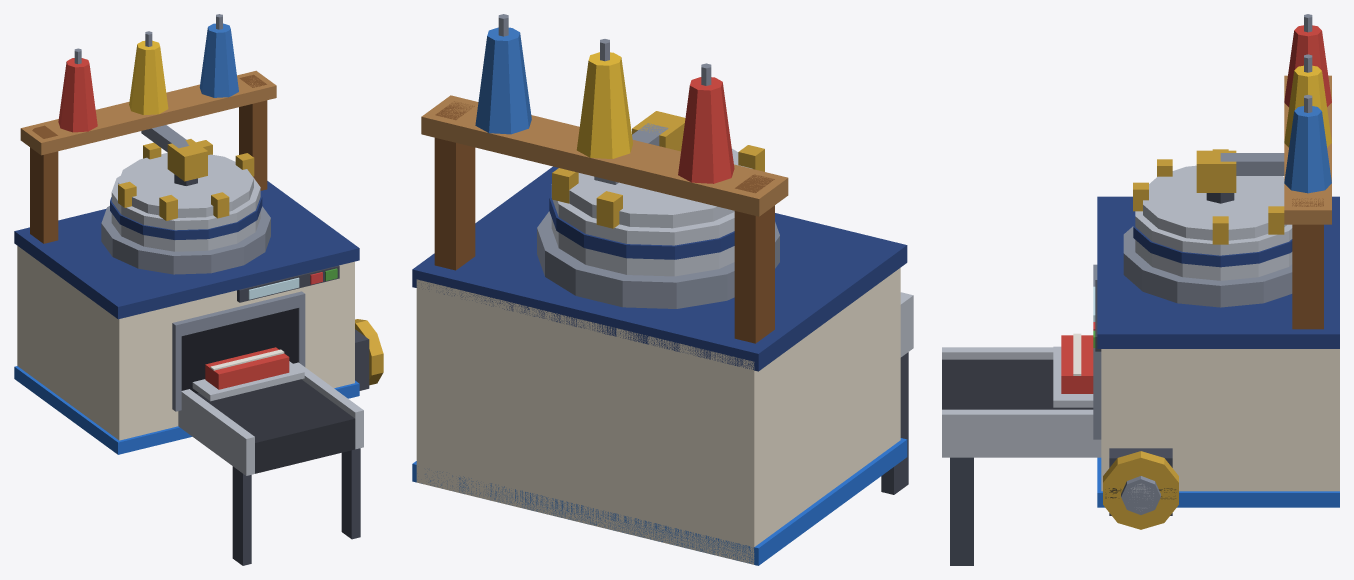
Rendered from knitter.glb.
3 renders of one model, left to right at view 1: azimuth 30°, elevation 25°; view 2: azimuth 150°, elevation 25°; view 3: azimuth 270°, elevation 25°, orthographic. The views are drawn at different scales.
Visible parts, largest first — view 1: knitter, spin-up, spin-x; view 2: knitter, spin-up; view 3: knitter, spin-up, spin-x.
Boxes of the visible parts, left/top/right/bottom form: knitter: left=14, top=14, right=369, bottom=565; spin-up: left=110, top=140, right=262, bottom=251; spin-x: left=355, top=319, right=383, bottom=385; knitter: left=412, top=14, right=913, bottom=565; spin-up: left=549, top=145, right=764, bottom=276; knitter: left=942, top=14, right=1339, bottom=565; spin-up: left=1133, top=149, right=1292, bottom=280; spin-x: left=1103, top=451, right=1178, bottom=529.
Bounding box in the file's own units: 0.93 × 1.32 × 1.
Materials: 3 (3 with a texture image).
